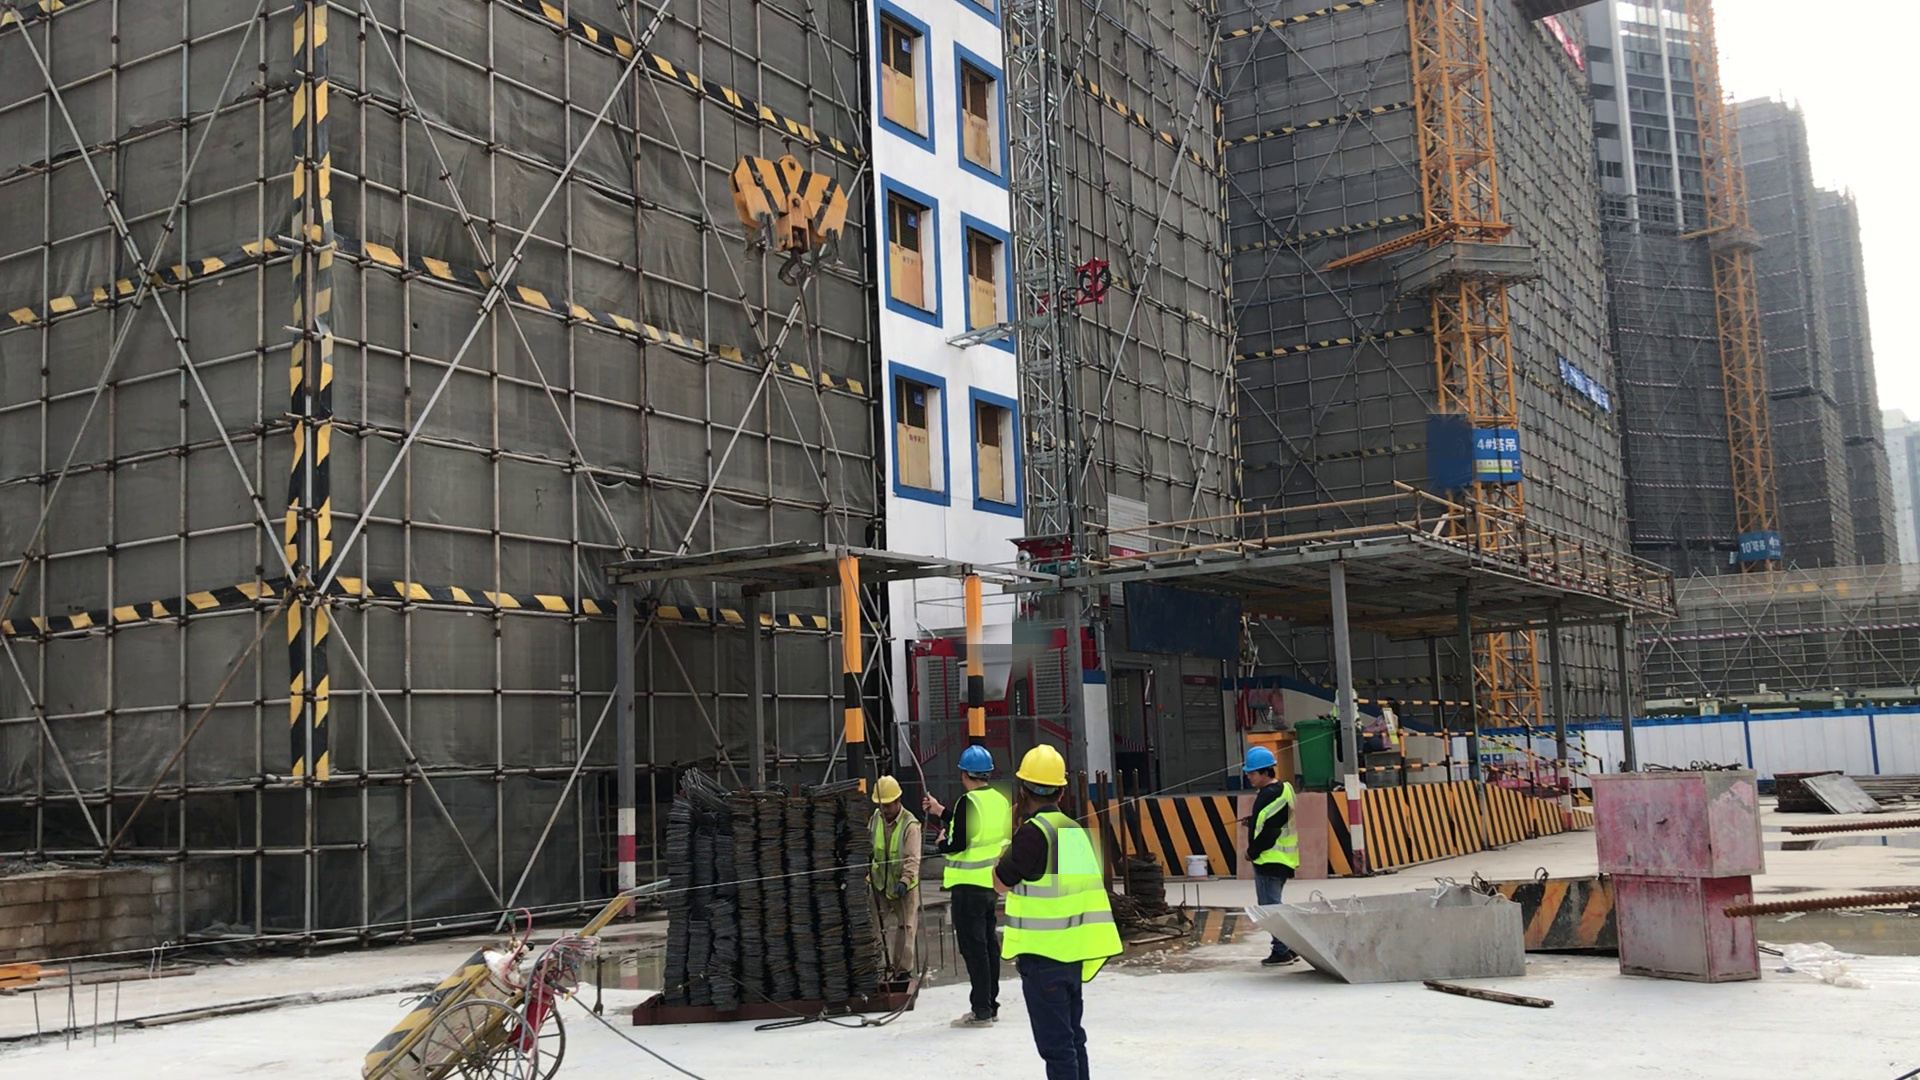helmet: (1016, 743, 1074, 793), (958, 742, 996, 773), (1240, 746, 1280, 774), (871, 777, 903, 805)
person: (1006, 738, 1131, 1075), (942, 741, 1003, 1031), (1231, 742, 1297, 981), (865, 767, 925, 994), (1373, 694, 1410, 752)
vest: (1013, 815, 1121, 980), (951, 787, 1005, 904), (1250, 784, 1300, 875), (875, 809, 913, 895)
